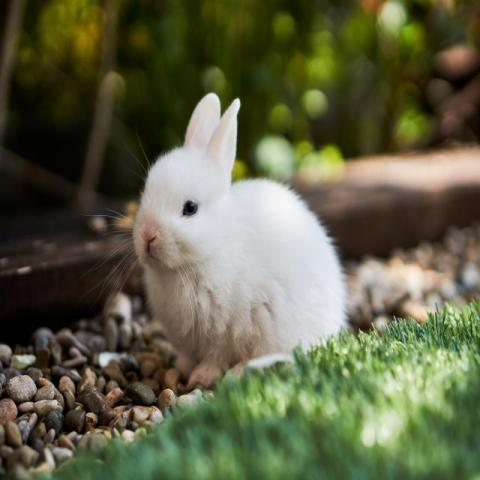small_animal: (119, 91, 350, 390)
